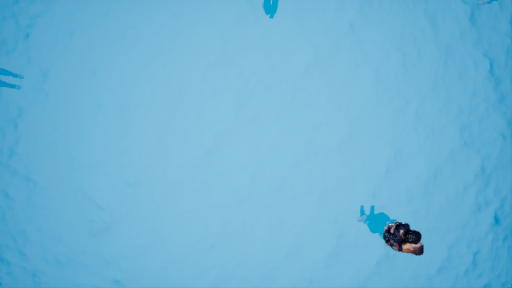person: (358, 204, 430, 257)
